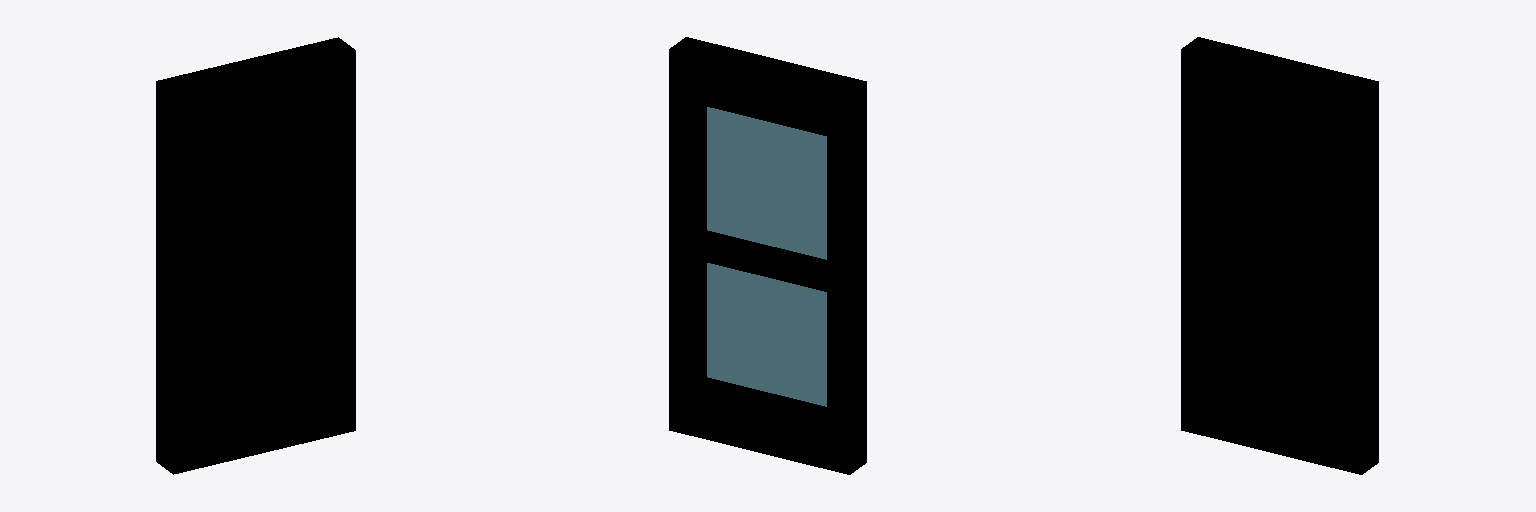
3 views of the same model, side by side, from view 1: azimuth 30°, elevation 25°; view 2: azimuth 150°, elevation 25°; view 3: azimuth 330°, elevation 25° (orthographic).
Visible parts, largest first — view 1: polySurface1050polySurface242; view 2: polySurface1050polySurface242; view 3: polySurface1050polySurface242.
Boxes of the visible parts, <box> form: polySurface1050polySurface242: <box>156,37,355,474</box>; polySurface1050polySurface242: <box>669,37,866,474</box>; polySurface1050polySurface242: <box>1181,37,1378,474</box>.
Bounding box in the file's own units: 4.56 × 9.12 × 0.7925.
2 materials, 1 textured.